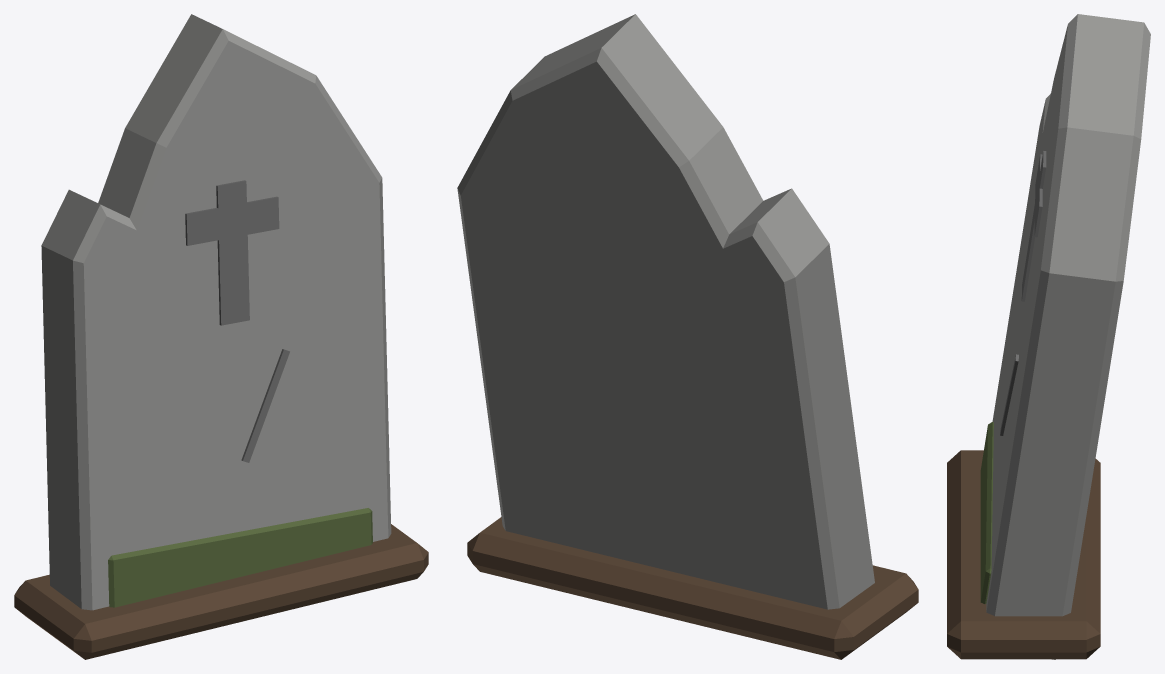
Rendered from gravestone_c.glb.
The picture shows the model from 3 angles, left to right: view 1: azimuth 30°, elevation 25°; view 2: azimuth 150°, elevation 25°; view 3: azimuth 270°, elevation 25°; orthographic projection. The views are drawn at different scales.
Visible parts, largest first — view 1: gravestone_c; view 2: gravestone_c; view 3: gravestone_c.
Part boxes in pixels (box(x1,y1,x2,y2)): gravestone_c: box(14, 14, 428, 659); gravestone_c: box(457, 14, 918, 659); gravestone_c: box(947, 14, 1150, 659).
Size of the model in its own units: 0.62 by 0.9174 by 0.2923.
